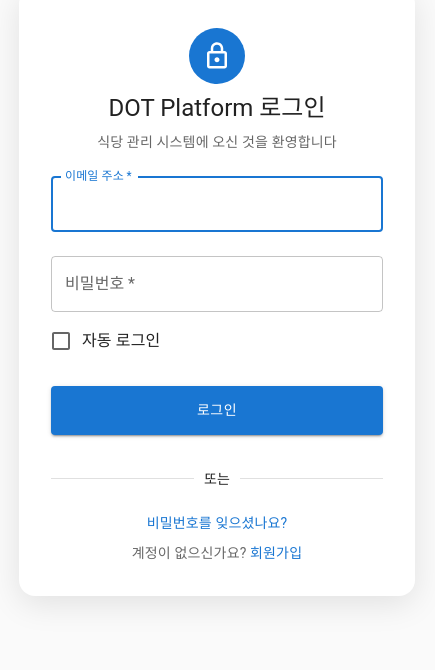
Test: Login Component › 폼 유효성 검사 › 빈 폼 제출 시 에러 메시지가 표시되어야 함
This screenshot has width=435, height=670.
Click the button "로그인" at {"x": 217, "y": 411}, box [51,386,383,435]
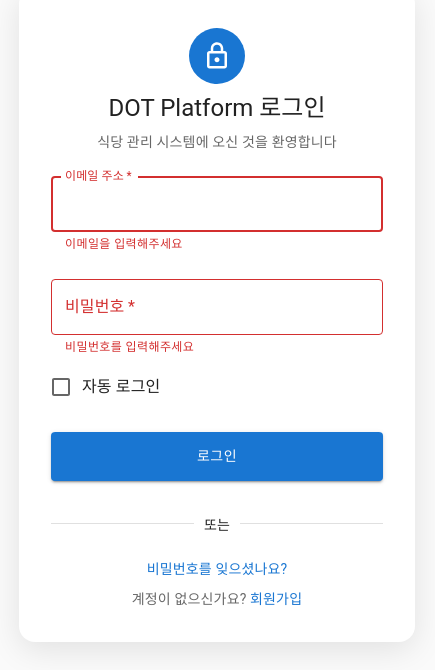
Expected: the text "이메일을 입력해주세요" is shown, [65,237,183,251]
Expected: the text "비밀번호를 입력해주세요" is shown, [65,340,194,354]
